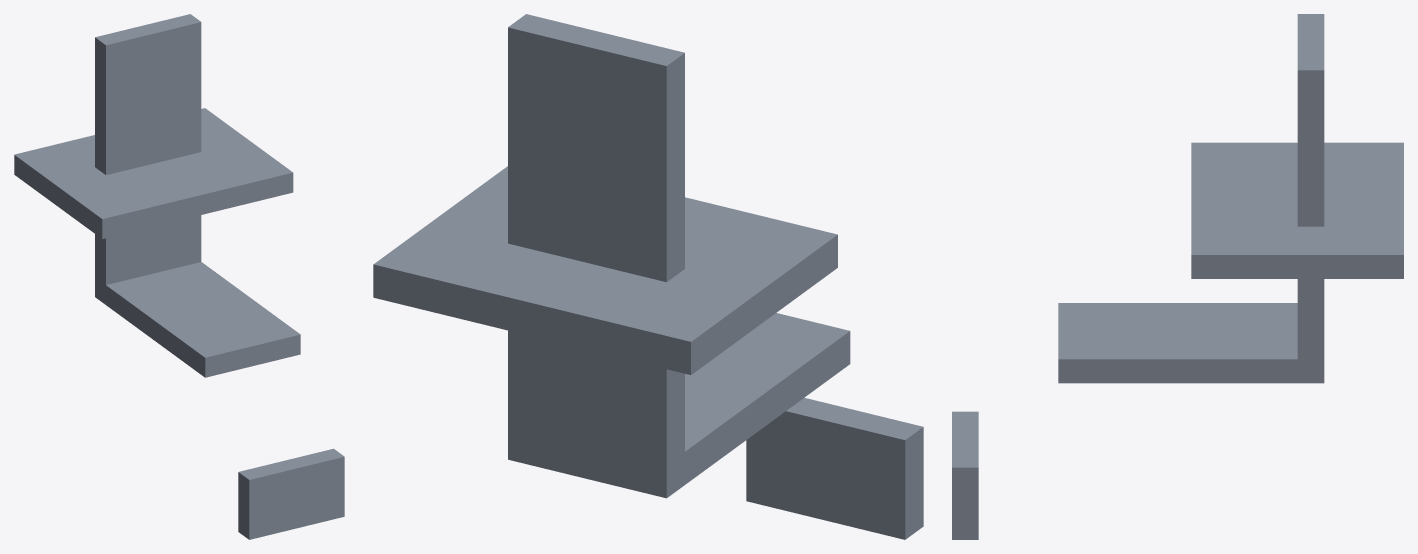
File: step-2-preview-1.glb
3 views of the same model, side by side, from view 1: azimuth 30°, elevation 25°; view 2: azimuth 150°, elevation 25°; view 3: azimuth 270°, elevation 25° (orthographic). The views are drawn at different scales.
Visible parts, largest first — view 1: preview_7, preview_10, preview_22, preview_2, preview_19, preview_14, preview_18, preview_23, preview_12, preview_11, preview_5, preview_6 (+1 smaller); view 2: preview_8, preview_10, preview_17, preview_3, preview_13, preview_22, preview_18, preview_12, preview_11, preview_6, preview_5, preview_0; view 3: preview_10, preview_22, preview_20, preview_15, preview_9, preview_1, preview_6, preview_5.
Part boxes in pixels (left/top/right/bottom): preview_7: left=106, top=22, right=201, bottom=174; preview_10: left=14, top=108, right=292, bottom=218; preview_22: left=106, top=262, right=300, bottom=357; preview_2: left=249, top=457, right=344, bottom=539; preview_19: left=106, top=215, right=201, bottom=284; preview_14: left=102, top=172, right=293, bottom=238; preview_18: left=95, top=234, right=205, bottom=377; preview_23: left=205, top=334, right=300, bottom=377; preview_12: left=14, top=155, right=102, bottom=238; preview_11: left=95, top=37, right=105, bottom=174; preview_5: left=239, top=448, right=344, bottom=479; preview_6: left=95, top=14, right=200, bottom=45; preview_8: left=508, top=27, right=666, bottom=282; preview_10: left=373, top=166, right=837, bottom=341; preview_17: left=508, top=330, right=666, bottom=498; preview_3: left=746, top=411, right=905, bottom=539; preview_13: left=373, top=264, right=690, bottom=374; preview_22: left=685, top=313, right=849, bottom=451; preview_18: left=666, top=331, right=850, bottom=497; preview_12: left=691, top=235, right=837, bottom=374; preview_11: left=666, top=53, right=684, bottom=281; preview_6: left=508, top=14, right=684, bottom=65; preview_5: left=786, top=398, right=923, bottom=439; preview_0: left=905, top=427, right=923, bottom=539; preview_10: left=1191, top=142, right=1403, bottom=254; preview_22: left=1058, top=303, right=1297, bottom=359; preview_20: left=1058, top=279, right=1324, bottom=383; preview_15: left=1191, top=255, right=1403, bottom=278; preview_9: left=1297, top=70, right=1324, bottom=226; preview_1: left=952, top=467, right=978, bottom=539; preview_6: left=1297, top=14, right=1324, bottom=70; preview_5: left=952, top=411, right=978, bottom=467.
Size of the model in its own units: 0.05 by 0.0975 by 0.085.
